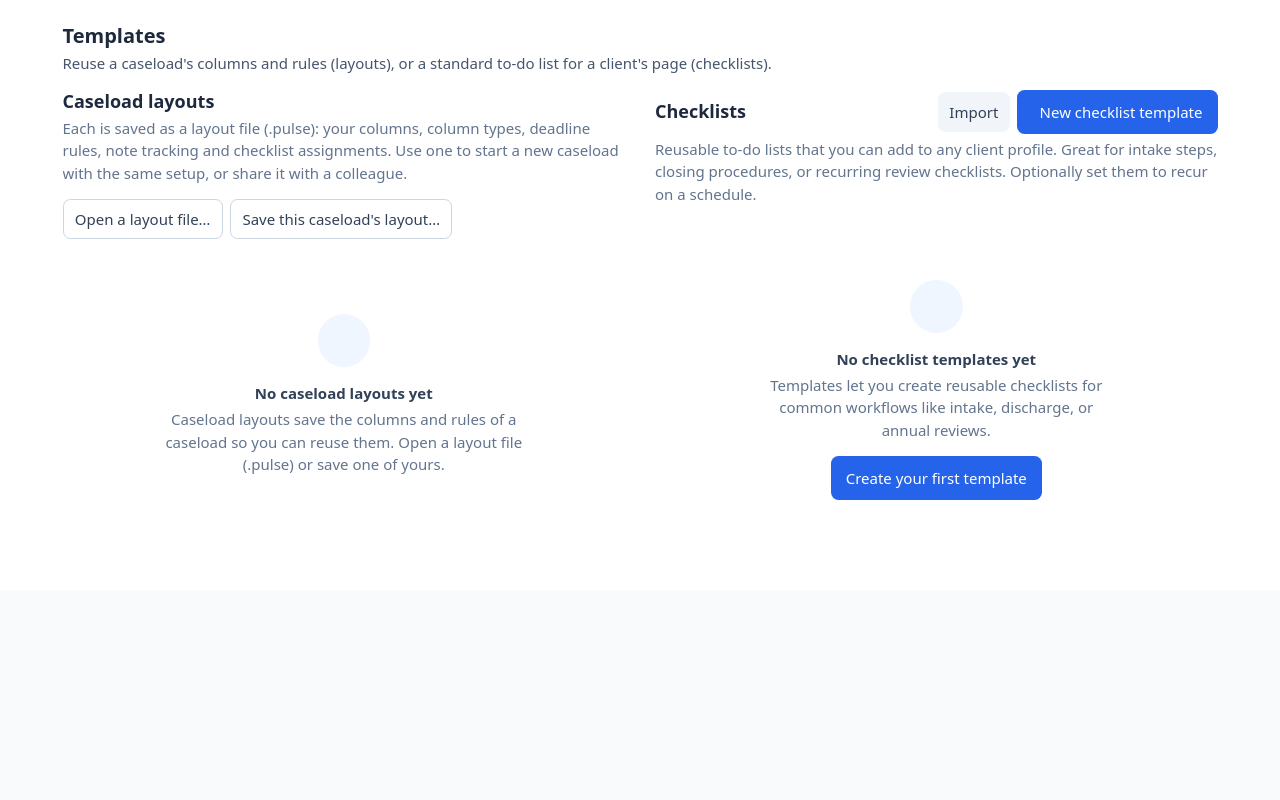
Test: TemplateManagerView › sees a list made while the page is open, and the picker starts on the open list
This screenshot has width=1280, height=800.
Click the button titled "as a layout file" at point(341, 219), box [230,199,452,239]
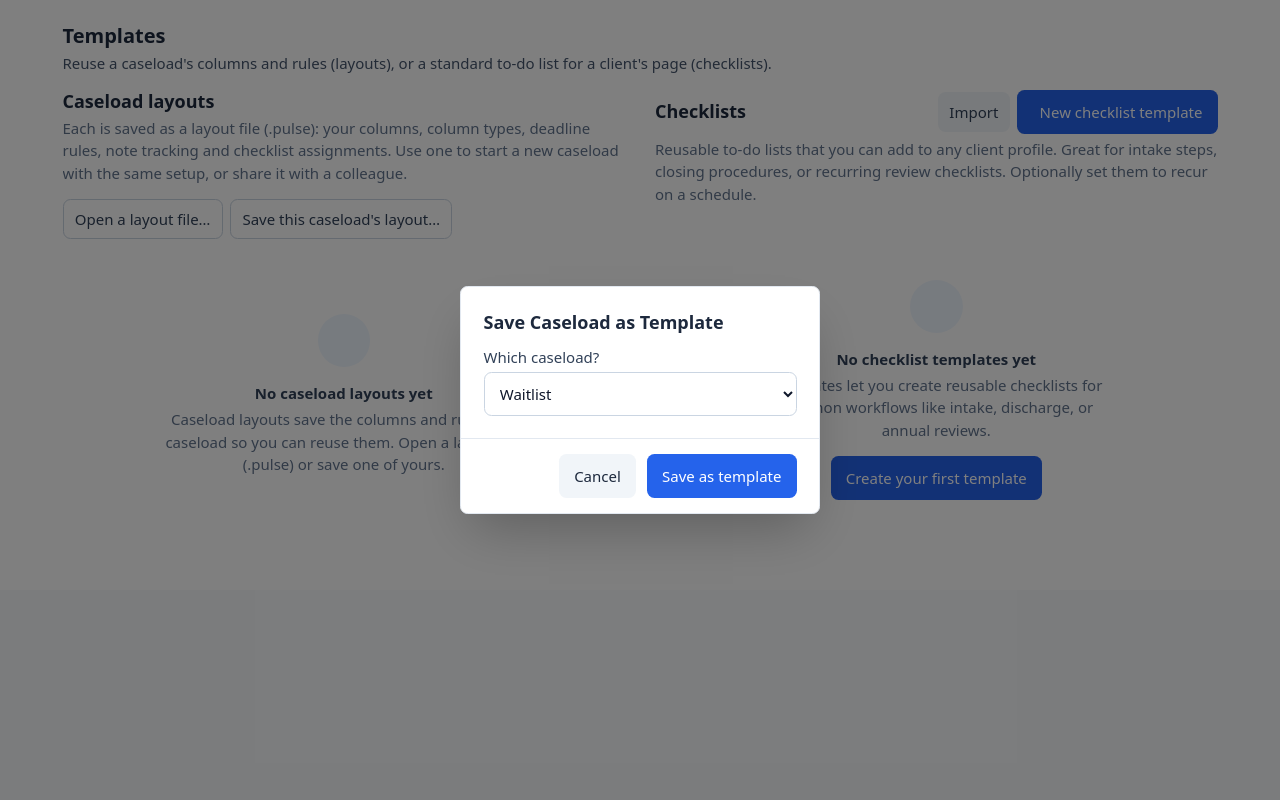
Now the dropdown labelled "Which caseload?" shows "Waitlist", box [484,372,796,416]
